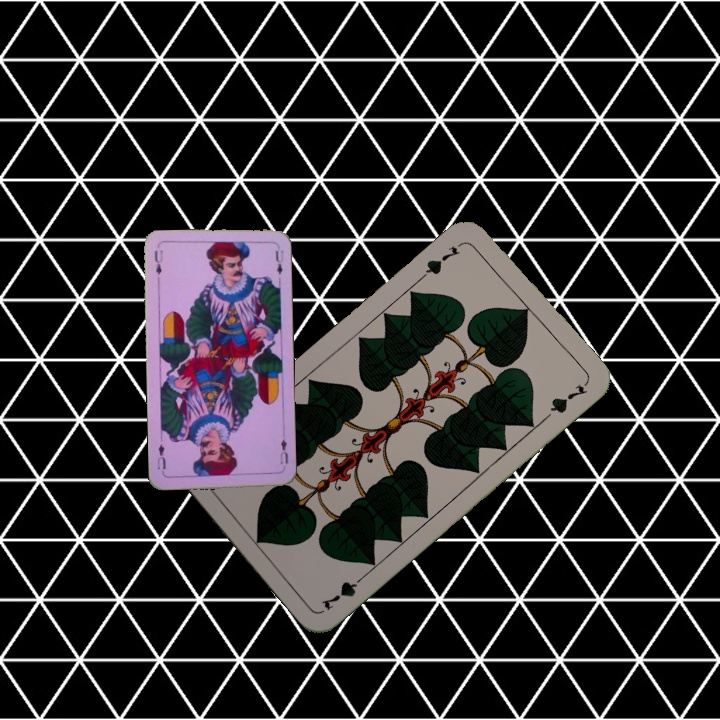EU: (150, 246, 165, 285), (276, 431, 290, 467)
G7: (317, 569, 369, 613), (417, 242, 463, 281)
